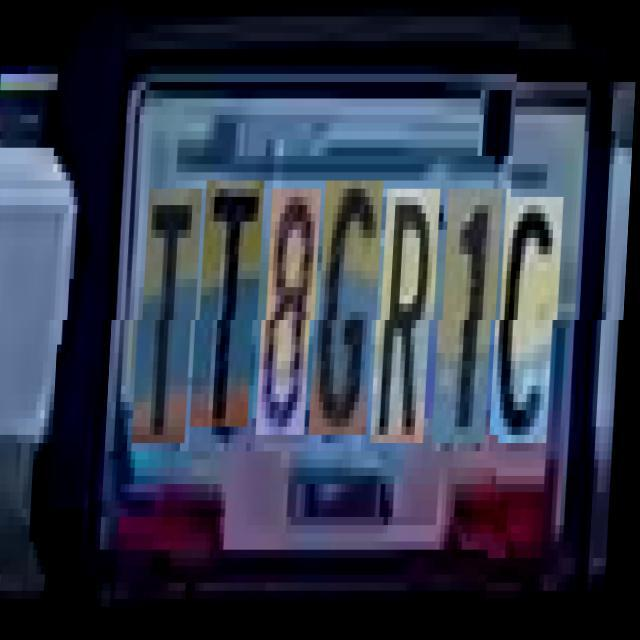1: (441, 188, 504, 444)
8: (265, 189, 324, 435)
C: (498, 189, 566, 435)
G: (318, 180, 386, 435)
R: (379, 188, 442, 444)
T: (198, 180, 266, 427), (141, 188, 204, 444)
